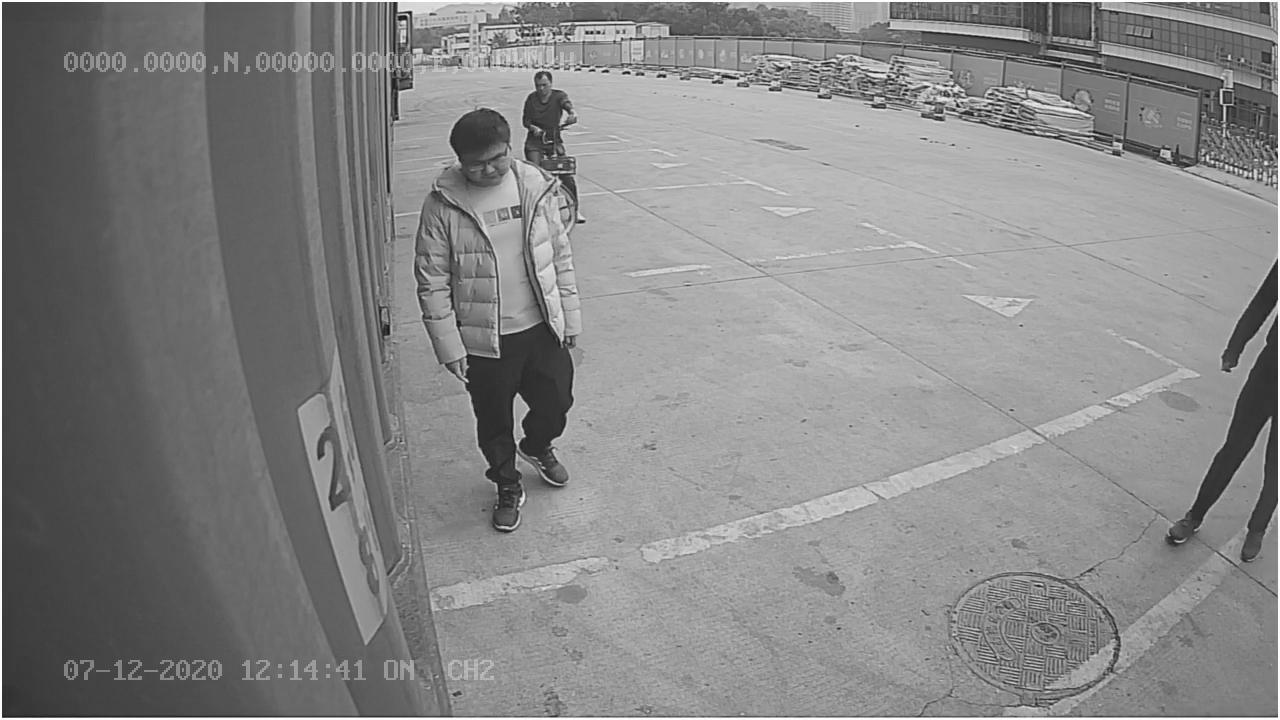person: (415, 106, 586, 526)
